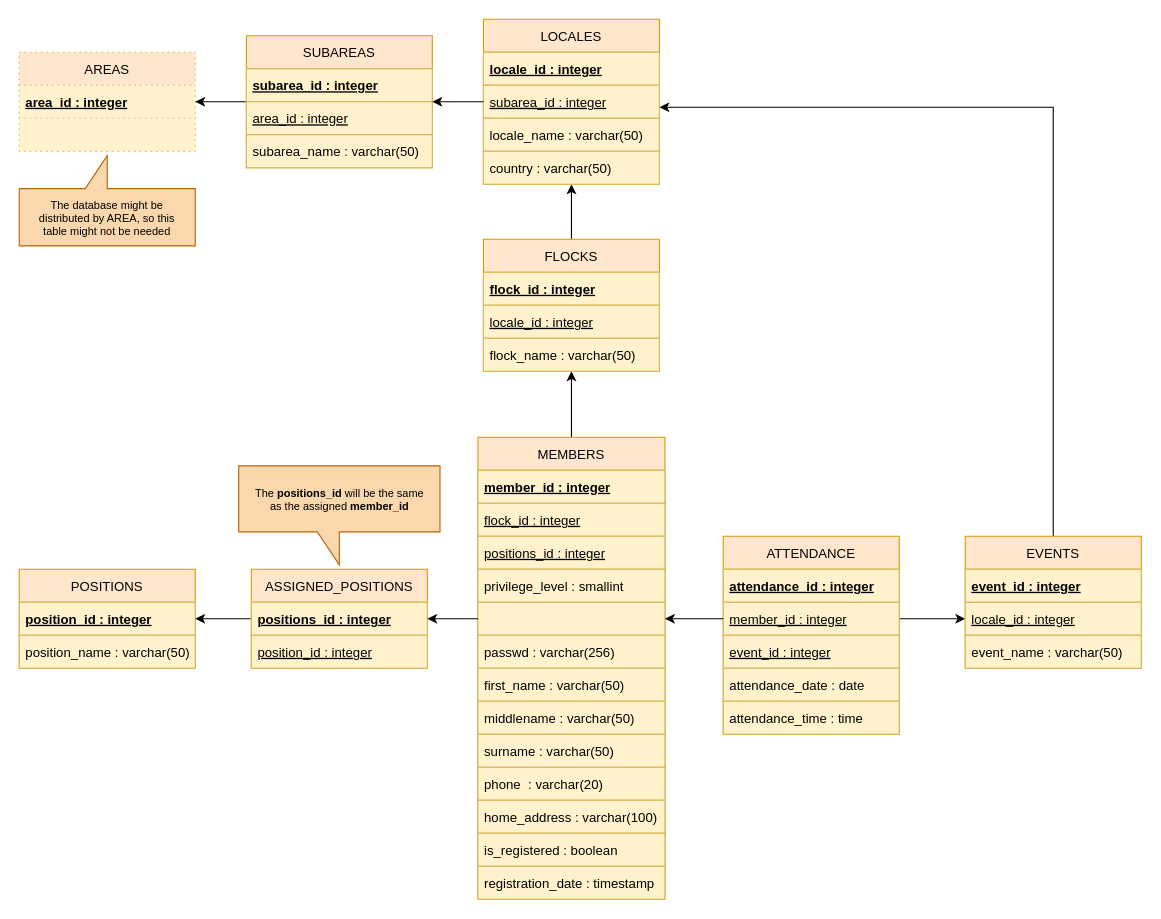
Some shapes in this 1161 by 919 pixel diagram are drawn without their labels. The shapes that lost their labels are listed below. From the top down, each one's centre as x and y in pixels, then its label:
pixel 106 134: area_name : varchar(50)
pixel 571 618: username : varchar(50)
